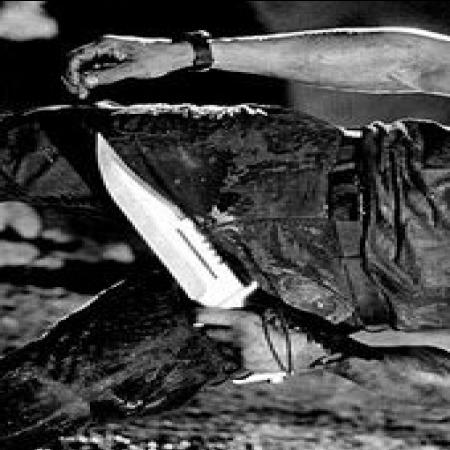long weapon: (90, 126, 307, 388)
